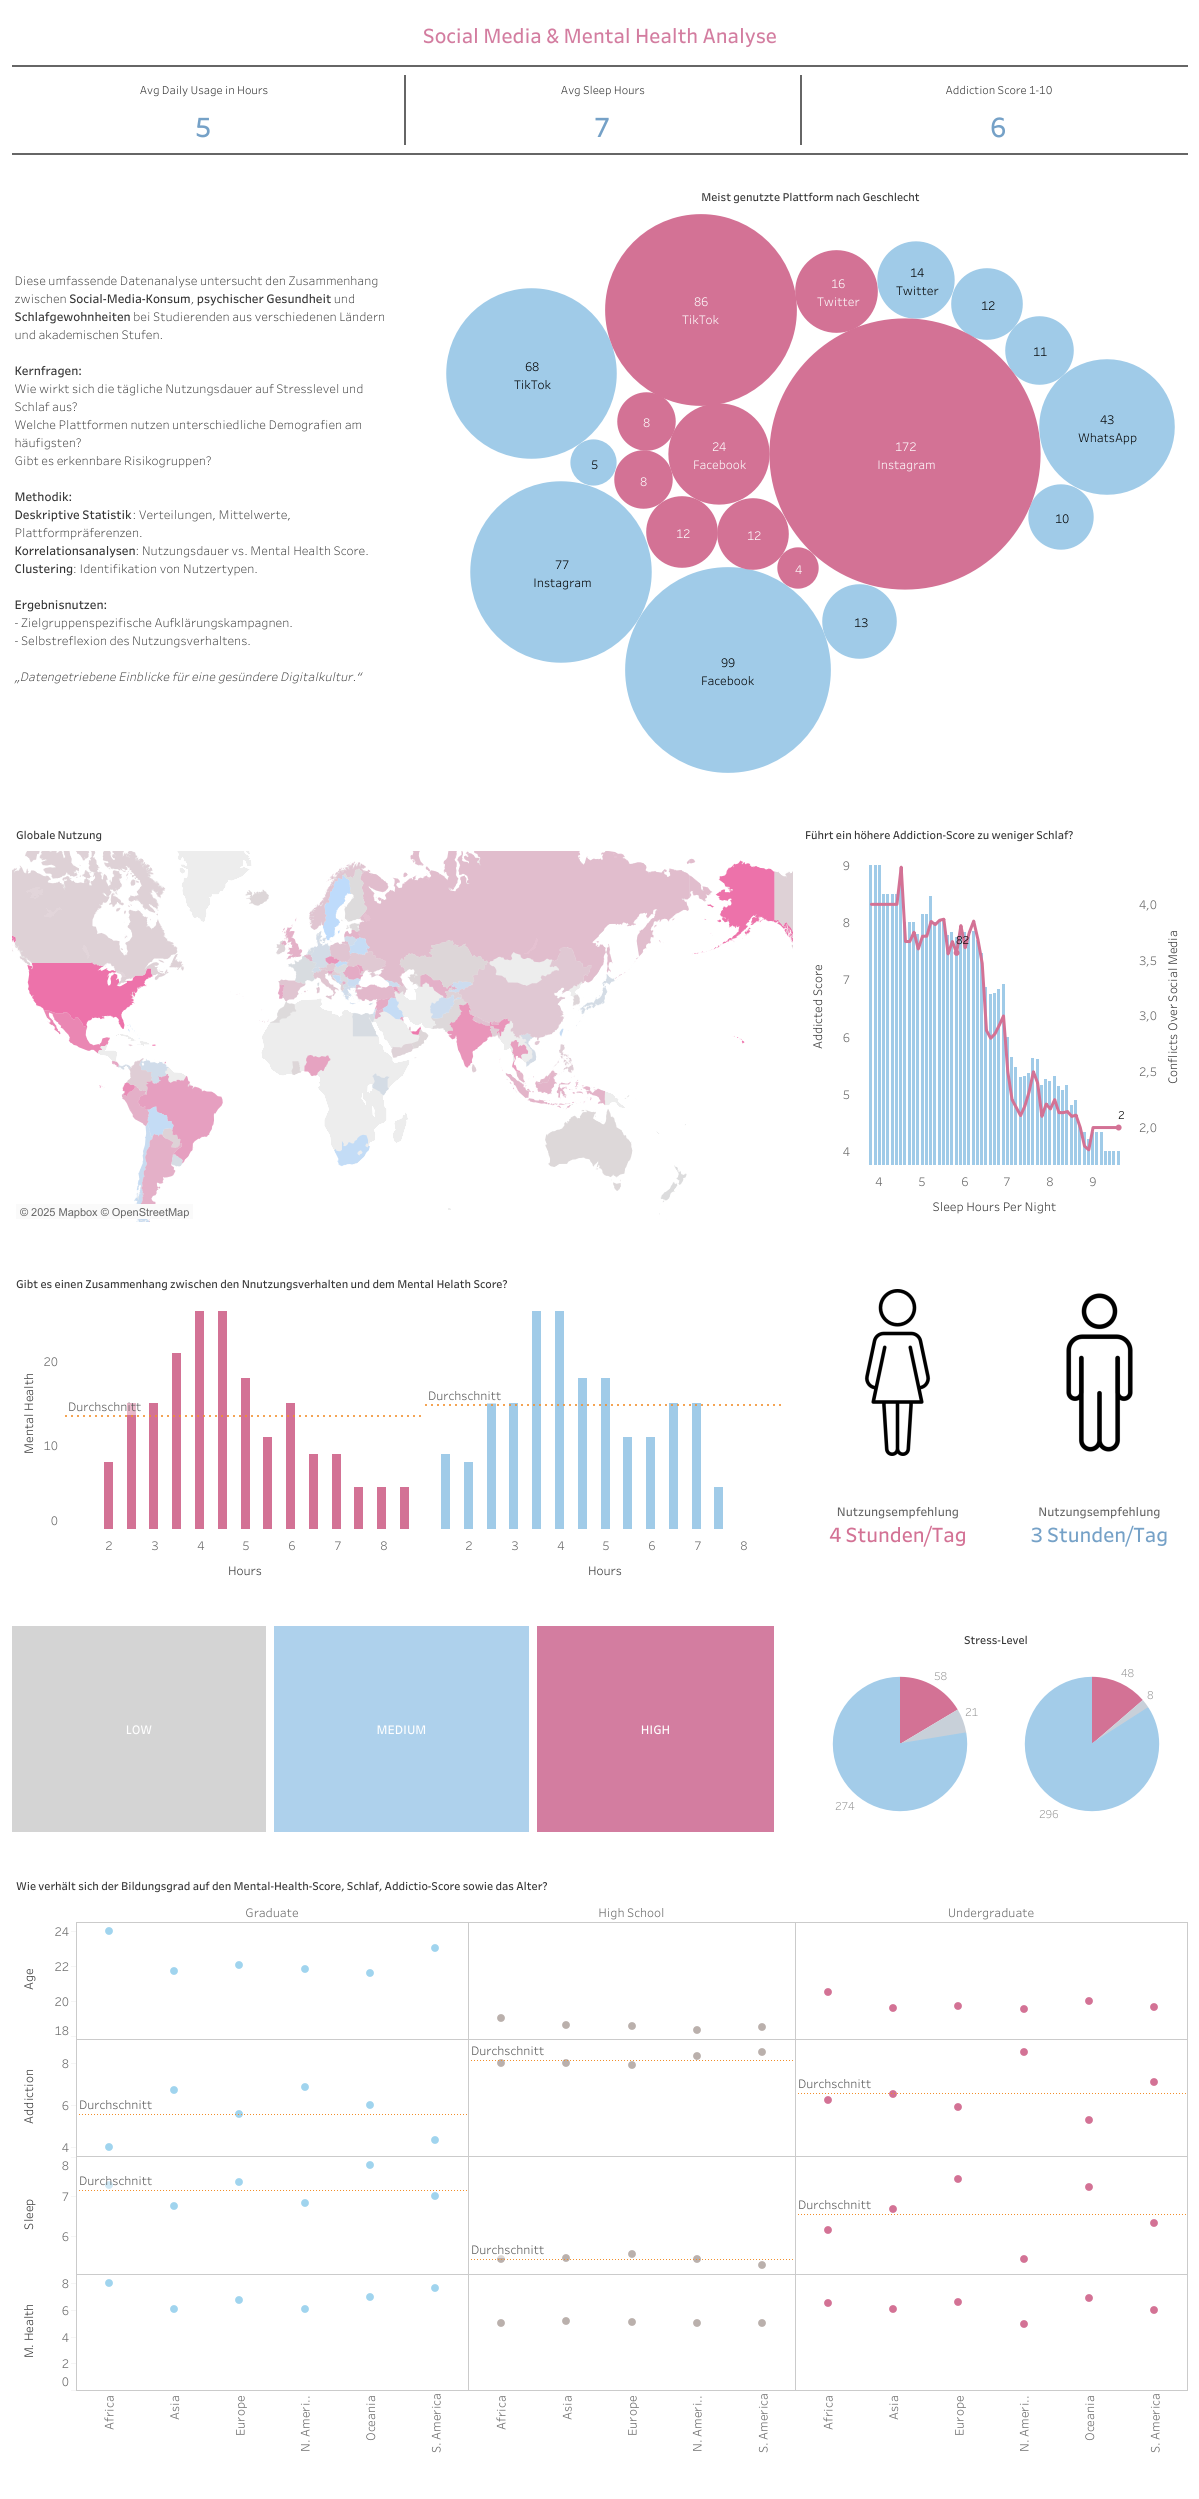

This screenshot's page, from the dashboard's own definition file:
{"tool":"tableau","page":{"name":"Dashboard 3","canvas":[1200,2500],"ordinal":2},"visuals":[{"type":"text","box":[8,8,1184,53]},{"type":"blank","box":[8,61,1184,10]},{"type":"worksheet","title":"Avg Daily Usage in Hours","mark":"Automatic","box":[8,71,392,76]},{"type":"blank","box":[400,71,10,76]},{"type":"worksheet","title":"Avg Sleep Hours","mark":"Automatic","box":[410,71,386,76]},{"type":"blank","box":[796,71,10,76]},{"type":"worksheet","title":"Addiction Score 1-10","mark":"Automatic","box":[806,71,386,76]},{"type":"blank","box":[8,147,1184,10]},{"type":"blank","box":[8,157,1184,20]},{"type":"text","box":[8,177,392,599.9]},{"type":"blank","box":[400,177,29,599.9]},{"type":"worksheet","title":"Meist genutzte Plattform nach Geschlecht","mark":"Circle","box":[429,177,763,599.9]},{"type":"blank","box":[8,776.9,1184,40]},{"type":"worksheet","title":"Verteilung der Social-Media-Nutzung: Durchschnittliche Nutzungsdauer nach Land, Geschlecht.","mark":"Multipolygon","box":[8,816.9,789.3,409.2]},{"type":"worksheet","title":"Führt ein höhere Addiction-Score zu weniger Schlaf?","mark":"Bar","rows":["Addicted_Score","Conflicts_Over_Social_Media"],"cols":["Sleep_Hours_Per_Night"],"box":[797.3,816.9,394.7,409.2]},{"type":"blank","box":[8,1226,781,39.7]},{"type":"blank","box":[789,1226,218,59]},{"type":"blank","box":[1007,1226,185,59]},{"type":"worksheet","title":"Gibt es einen Zusammenhang zwischen den Nnutzungsverhalten und dem Mental Helath Score?","mark":"Bar","rows":["Mental_Health_Score"],"cols":["Gender","Avg Daily Usage Hours (bin)"],"box":[8,1265.7,781,324.3]},{"type":"image","param":"Image/frau.png","box":[789,1285,218,175]},{"type":"image","param":"Image/mann.png","box":[1007,1285,185,175]},{"type":"text","box":[789,1460,218,130]},{"type":"text","box":[1007,1460,185,130]},{"type":"blank","box":[8,1590,1184,32]},{"type":"text","box":[8,1622,262,214]},{"type":"text","box":[270,1622,263,214]},{"type":"text","box":[533,1622,245,214]},{"type":"blank","box":[778,1622,22,214]},{"type":"worksheet","title":"Stress-Level","mark":"Pie","cols":["Gender"],"box":[800,1622,392,214]},{"type":"blank","box":[8,1836,1184,32]},{"type":"worksheet","title":"Wie verhält sich der Bildungsgrad auf den Mental-Health-Score, Schlaf, Addictio-Score sowie das Alter?","mark":"Circle","rows":["Age","Addicted_Score","Sleep_Hours_Per_Night","Mental_Health_Score"],"cols":["Academic_Level","Calculation_280349087695220738"],"box":[8,1868,1184,592]},{"type":"blank","box":[8,2460,1184,32]}]}

Visuals, with their boxes in screenshot pixels (x1, y1, x2, y2), scaled from the page's 1200x2500 canvas onto the 1199x2499 screenshot:
text: locate(8, 8, 1191, 61)
blank: locate(8, 61, 1191, 71)
"Avg Daily Usage in Hours" worksheet: locate(8, 71, 400, 147)
blank: locate(400, 71, 410, 147)
"Avg Sleep Hours" worksheet: locate(410, 71, 795, 147)
blank: locate(795, 71, 805, 147)
"Addiction Score 1-10" worksheet: locate(805, 71, 1191, 147)
blank: locate(8, 147, 1191, 157)
blank: locate(8, 157, 1191, 177)
text: locate(8, 177, 400, 777)
blank: locate(400, 177, 429, 777)
"Meist genutzte Plattform nach Geschlecht" worksheet (Circle marks): locate(429, 177, 1191, 777)
blank: locate(8, 777, 1191, 817)
"Verteilung der Social-Media-Nutzung: Durchschnittliche Nutzungsdauer nach Land, Geschlecht." worksheet (Multipolygon marks): locate(8, 817, 797, 1226)
"Führt ein höhere Addiction-Score zu weniger Schlaf?" worksheet (Bar marks): locate(797, 817, 1191, 1226)
blank: locate(8, 1226, 788, 1265)
blank: locate(788, 1226, 1006, 1284)
blank: locate(1006, 1226, 1191, 1284)
"Gibt es einen Zusammenhang zwischen den Nnutzungsverhalten und dem Mental Helath Score?" worksheet (Bar marks): locate(8, 1265, 788, 1589)
image: locate(788, 1284, 1006, 1459)
image: locate(1006, 1284, 1191, 1459)
text: locate(788, 1459, 1006, 1589)
text: locate(1006, 1459, 1191, 1589)
blank: locate(8, 1589, 1191, 1621)
text: locate(8, 1621, 270, 1835)
text: locate(270, 1621, 533, 1835)
text: locate(533, 1621, 777, 1835)
blank: locate(777, 1621, 799, 1835)
"Stress-Level" worksheet (Pie marks): locate(799, 1621, 1191, 1835)
blank: locate(8, 1835, 1191, 1867)
"Wie verhält sich der Bildungsgrad auf den Mental-Health-Score, Schlaf, Addictio-Score sowie das Alter?" worksheet (Circle marks): locate(8, 1867, 1191, 2459)
blank: locate(8, 2459, 1191, 2491)
